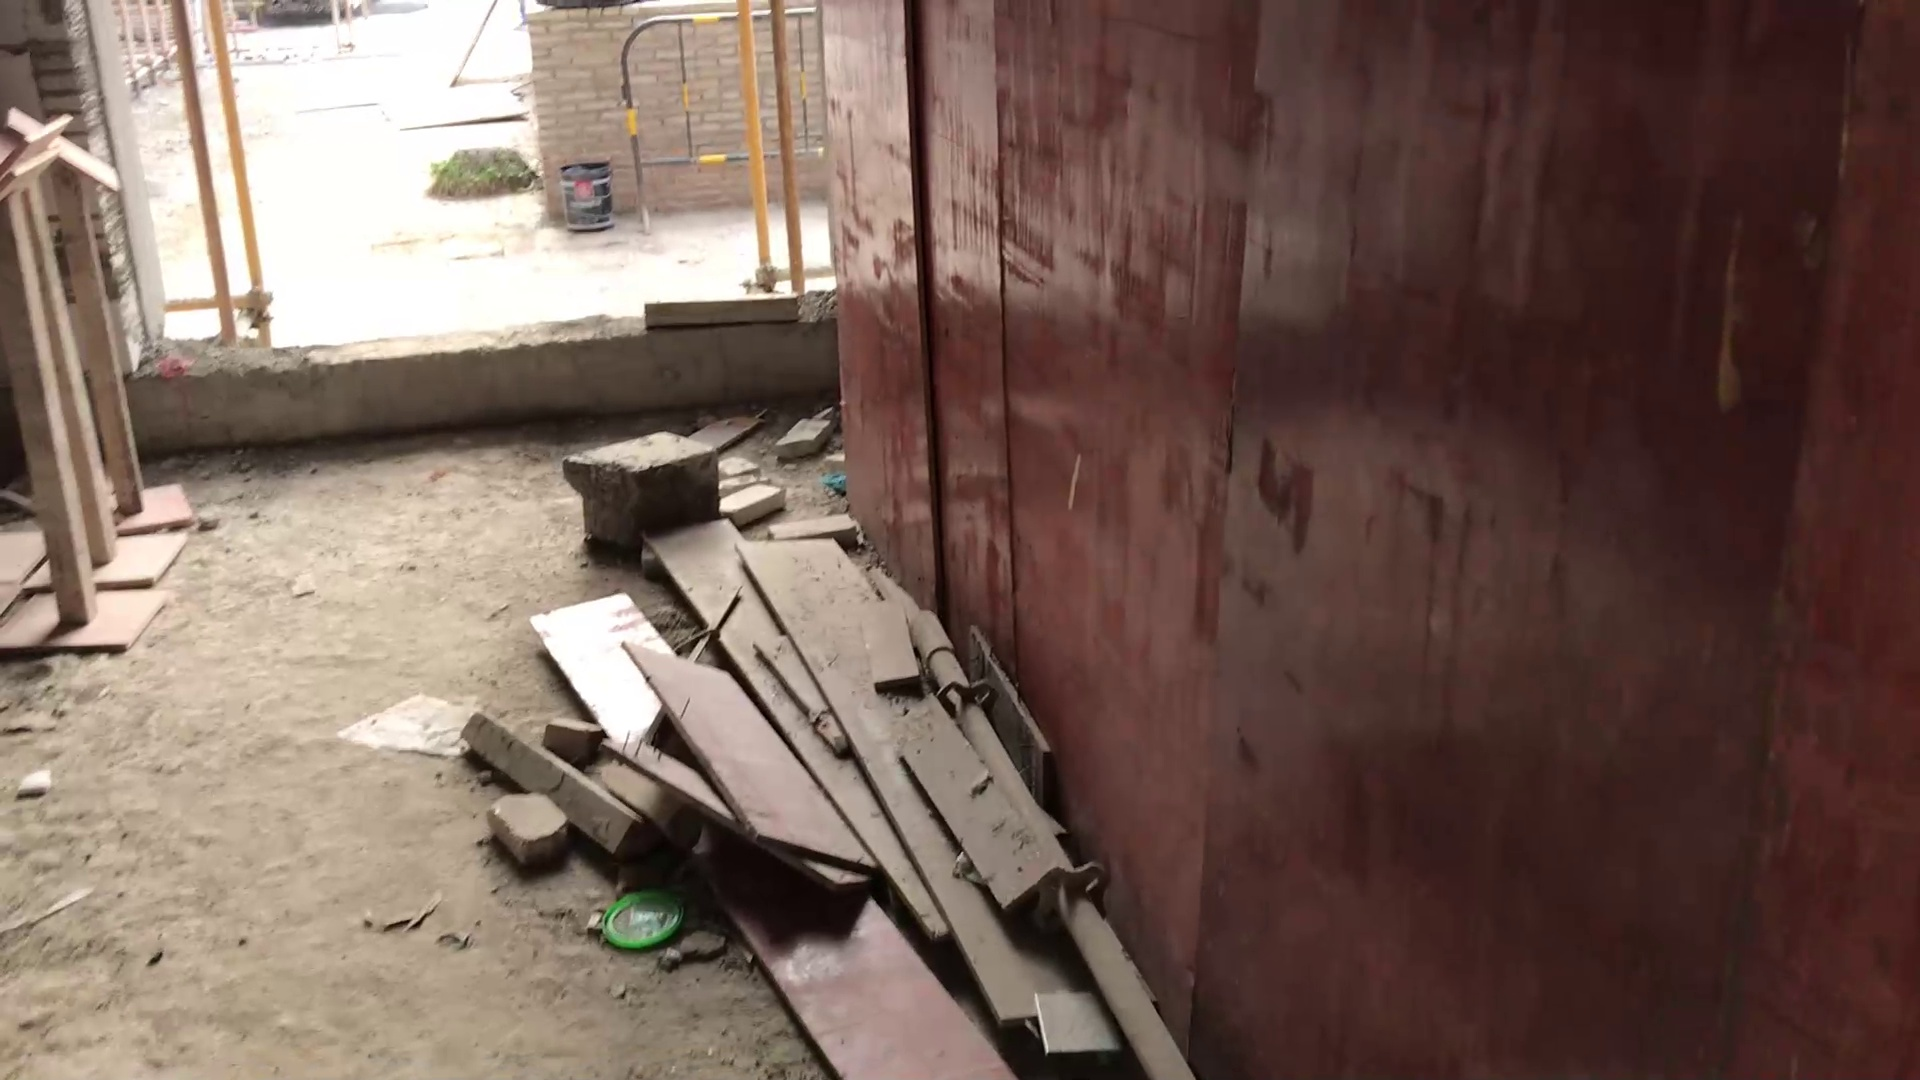fence: (600, 15, 851, 229)
